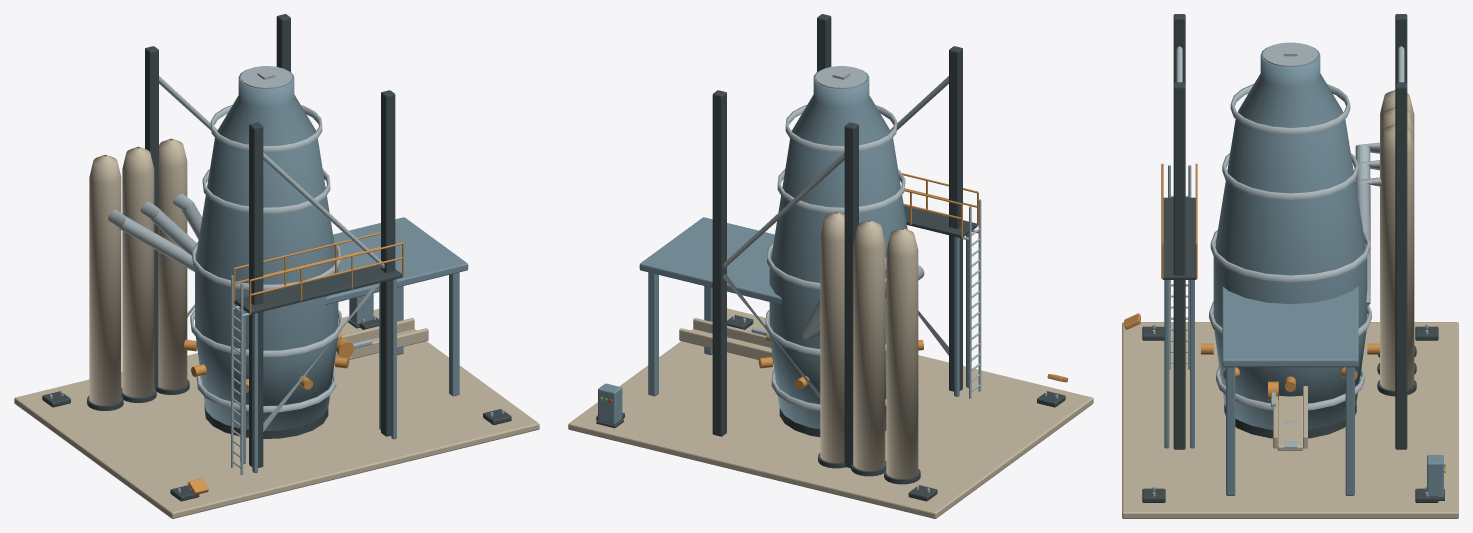
3 renders of one model, left to right at view 1: azimuth 30°, elevation 25°; view 2: azimuth 150°, elevation 25°; view 3: azimuth 270°, elevation 25°, orthographic. The views are drawn at different scales.
Parts seen in each view (by area): view 1: foundation, furnace_shell, hot_blast_stove_0, hot_blast_stove_1, hot_blast_stove_2, cast_house_roof, tower_leg_1.7_2.6, tower_leg_-2.1_2.6, furnace_gallery_deck, tower_leg_-2.1_-2.6, tower_cross_2.6, stove_manifold_0 (+16 smaller); view 2: foundation, furnace_shell, hot_blast_stove_0, hot_blast_stove_1, hot_blast_stove_2, cast_house_roof, tower_leg_1.7_-2.6, tower_leg_-2.1_-2.6, tower_leg_-2.1_2.6, tower_cross_-2.6, cast_house_post_-1.4, shell_band_8 (+10 smaller); view 3: foundation, furnace_shell, cast_house_roof, hot_blast_stove_2, tower_leg_1.7_-2.6, tower_leg_1.7_2.6, furnace_gallery_deck, shell_band_4.4, shell_band_8, cast_house_post_-1.4, cast_house_post_1.4, tap_race (+14 smaller).
Part boxes in pixels (bbox=[...]): foundation: bbox=[14, 309, 539, 518]; furnace_shell: bbox=[195, 69, 338, 430]; hot_blast_stove_0: bbox=[89, 154, 121, 405]; hot_blast_stove_1: bbox=[122, 146, 154, 397]; hot_blast_stove_2: bbox=[158, 138, 187, 389]; cast_house_roof: bbox=[325, 217, 468, 304]; tower_leg_1.7_2.6: bbox=[381, 90, 395, 436]; tower_leg_-2.1_2.6: bbox=[249, 122, 263, 467]; furnace_gallery_deck: bbox=[234, 265, 402, 314]; tower_leg_-2.1_-2.6: bbox=[145, 46, 158, 388]; tower_cross_2.6: bbox=[263, 152, 384, 431]; stove_manifold_0: bbox=[108, 209, 194, 271]; foundation: bbox=[568, 308, 1093, 518]; furnace_shell: bbox=[769, 69, 907, 429]; hot_blast_stove_0: bbox=[886, 228, 918, 478]; hot_blast_stove_1: bbox=[853, 220, 885, 470]; hot_blast_stove_2: bbox=[820, 212, 844, 462]; cast_house_roof: bbox=[639, 217, 782, 304]; tower_leg_1.7_-2.6: bbox=[712, 90, 726, 436]; tower_leg_-2.1_-2.6: bbox=[844, 122, 858, 468]; tower_leg_-2.1_2.6: bbox=[949, 46, 962, 391]; tower_cross_-2.6: bbox=[723, 152, 844, 399]; cast_house_post_-1.4: bbox=[648, 272, 658, 396]; shell_band_8: bbox=[785, 105, 897, 152]; foundation: bbox=[1122, 322, 1458, 518]; furnace_shell: bbox=[1213, 46, 1367, 429]; cast_house_roof: bbox=[1222, 286, 1358, 367]; hot_blast_stove_2: bbox=[1380, 124, 1414, 390]; tower_leg_1.7_-2.6: bbox=[1395, 82, 1407, 449]; tower_leg_1.7_2.6: bbox=[1173, 82, 1185, 449]; furnace_gallery_deck: bbox=[1162, 197, 1196, 279]; shell_band_4.4: bbox=[1210, 230, 1370, 282]; shell_band_8: bbox=[1230, 84, 1350, 134]; cast_house_post_-1.4: bbox=[1345, 367, 1354, 495]; cast_house_post_1.4: bbox=[1226, 367, 1235, 495]; tap_race: bbox=[1277, 395, 1303, 450].
Bounding box in the file's own units: 10.6 × 9.6 × 7.9.
